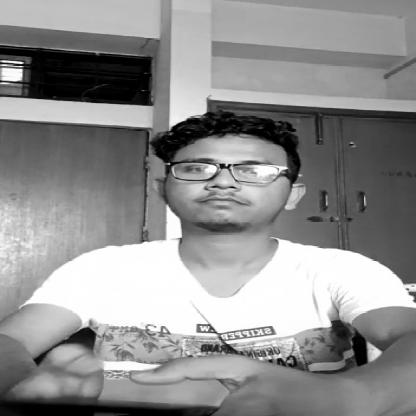Normal: (147, 128, 304, 238)
